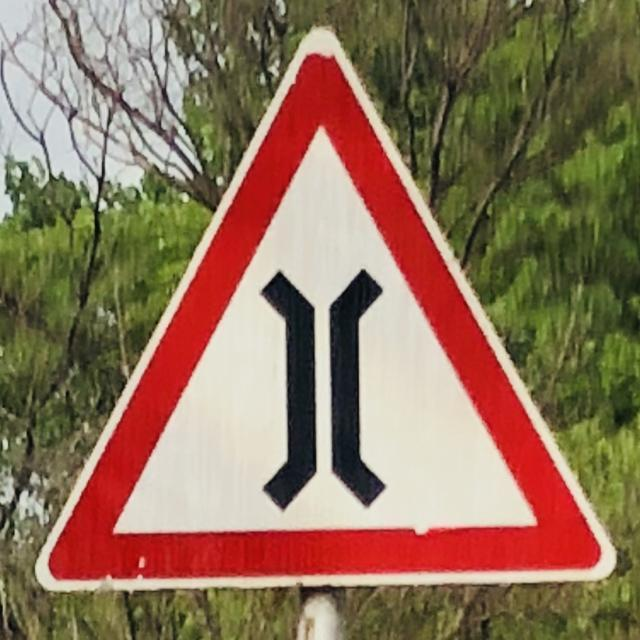narrow bridge ahead: (50, 54, 604, 581)
